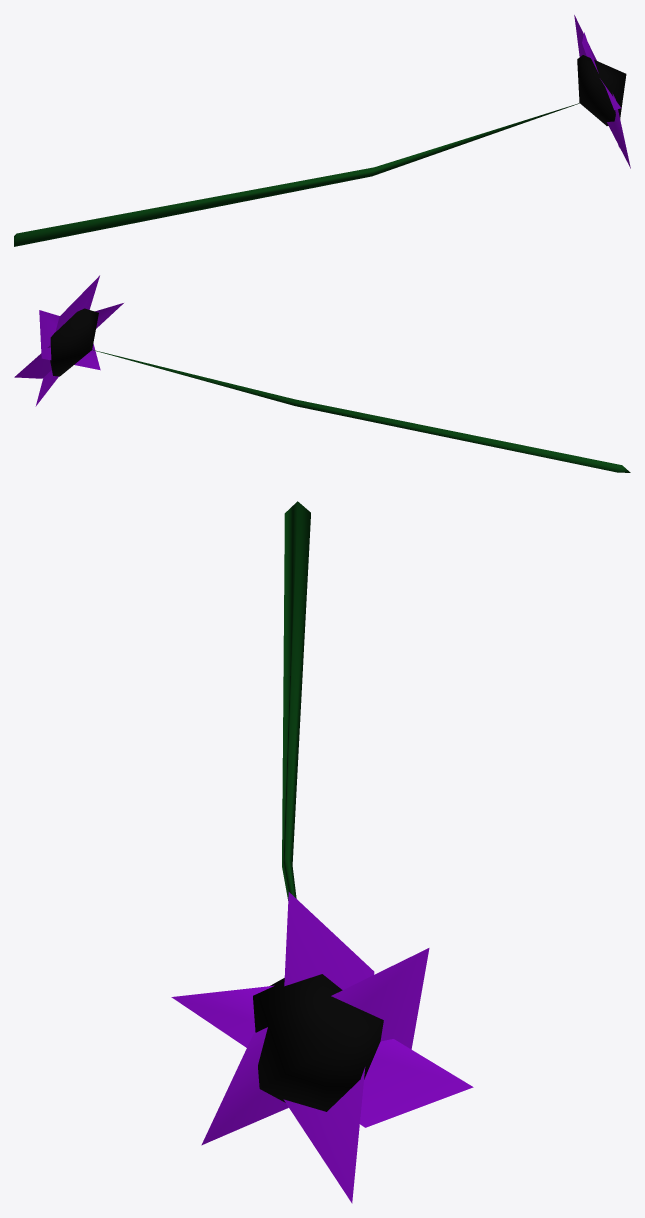
File: echinaceaFlower.glb
The picture shows the model from 3 angles, top to bottom: view 1: azimuth 30°, elevation 25°; view 2: azimuth 150°, elevation 25°; view 3: azimuth 270°, elevation 25°; orthographic projection. The views are drawn at different scales.
Visible parts, largest first — view 1: Icosphere; view 2: Icosphere; view 3: Icosphere.
Boxes of the visible parts, x1,y1,x2,y2 form: Icosphere: (14,15,630,246); Icosphere: (14,275,630,472); Icosphere: (171,501,473,1203).
Size of the model in its own units: 0.5935 by 0.1297 by 0.1344.
